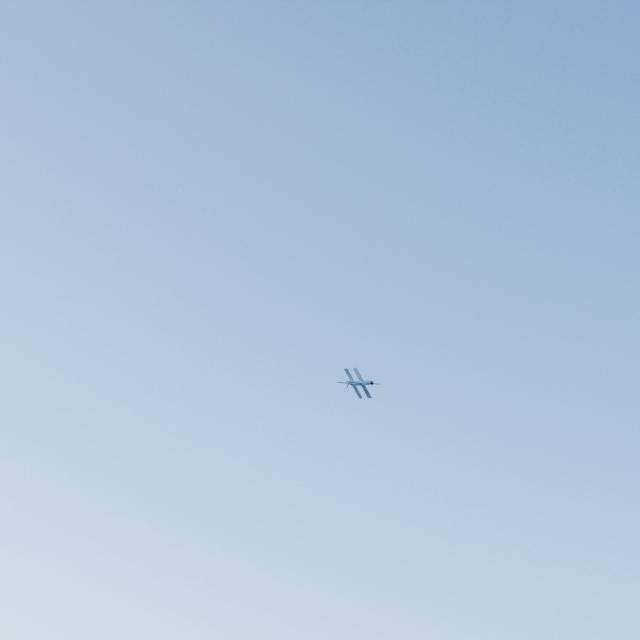Airaplan: (336, 367, 380, 398)
